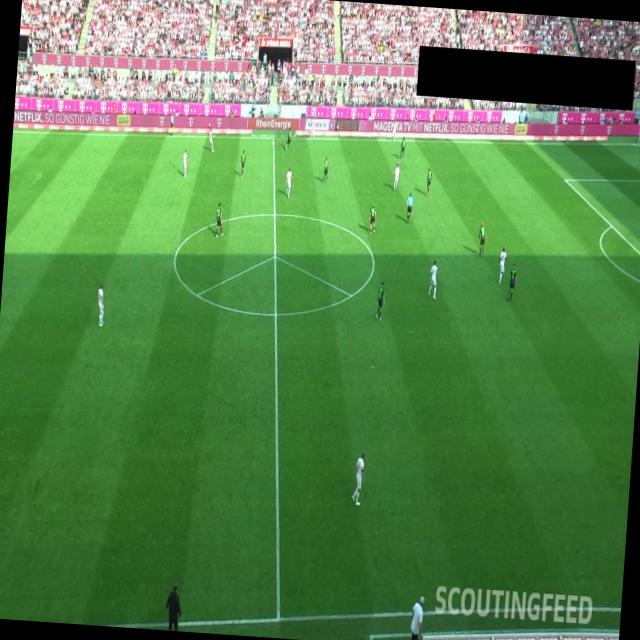player: (350, 450, 368, 504), (95, 282, 107, 326), (427, 259, 439, 300), (506, 262, 518, 302), (476, 220, 488, 257), (375, 280, 386, 320), (214, 202, 226, 238), (497, 246, 507, 284), (284, 166, 294, 198), (206, 121, 216, 152), (368, 200, 377, 233), (238, 148, 246, 178), (425, 166, 433, 196), (180, 148, 188, 177), (392, 162, 400, 190), (308, 117, 316, 139), (390, 120, 398, 142), (322, 155, 328, 183), (399, 136, 406, 158), (284, 130, 291, 150)
referee: (404, 191, 414, 223), (170, 110, 176, 134)
